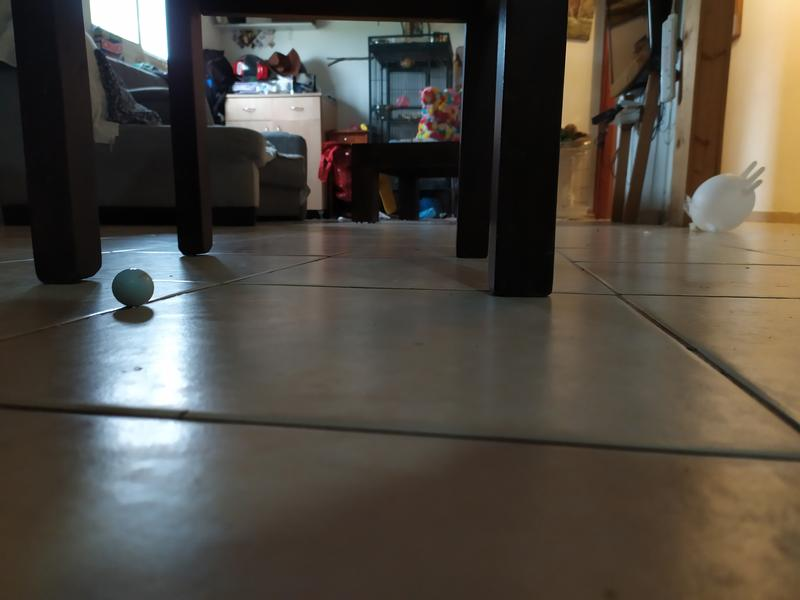Warning: (110, 266, 156, 309)
